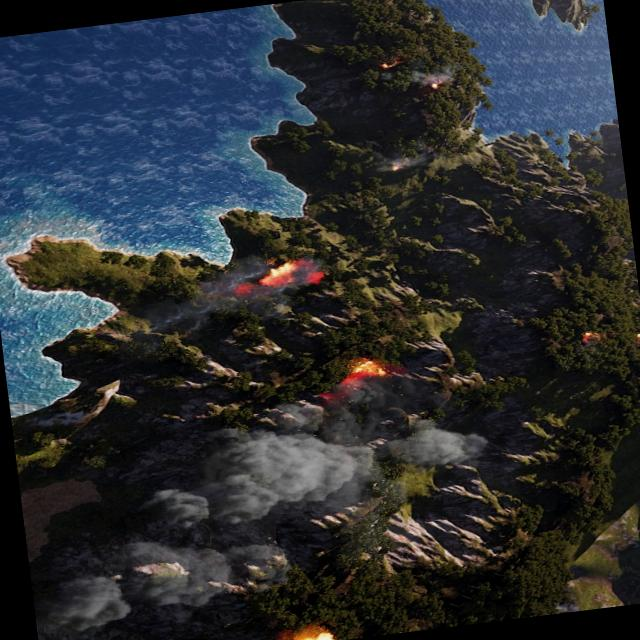fire: (254, 258, 305, 290), (340, 354, 391, 384), (292, 630, 337, 640), (377, 59, 403, 70), (580, 329, 598, 344), (388, 164, 401, 173), (632, 330, 640, 344), (427, 82, 440, 90)
smoke: (15, 364, 509, 640), (131, 247, 330, 342), (380, 62, 460, 90), (369, 144, 436, 176)
